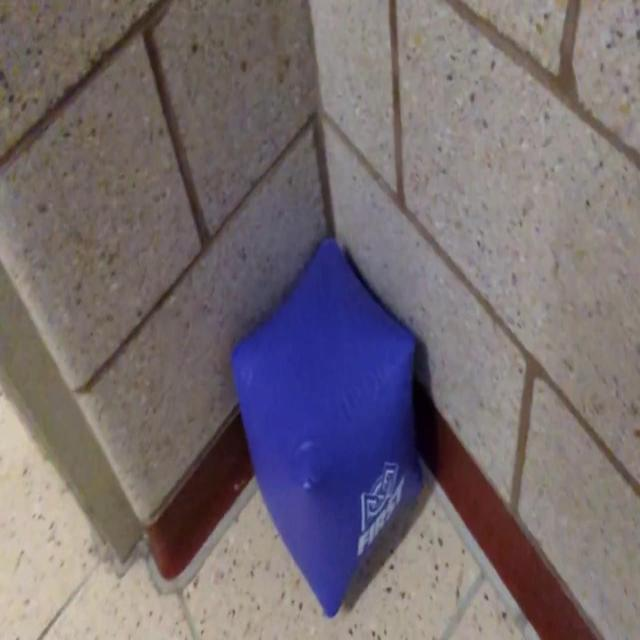frc_cube: (233, 240, 421, 620)
